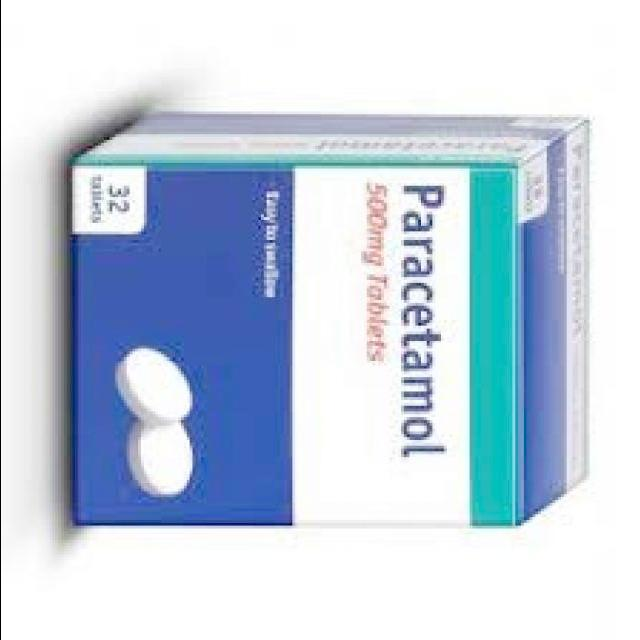authentic: (45, 98, 602, 540)
